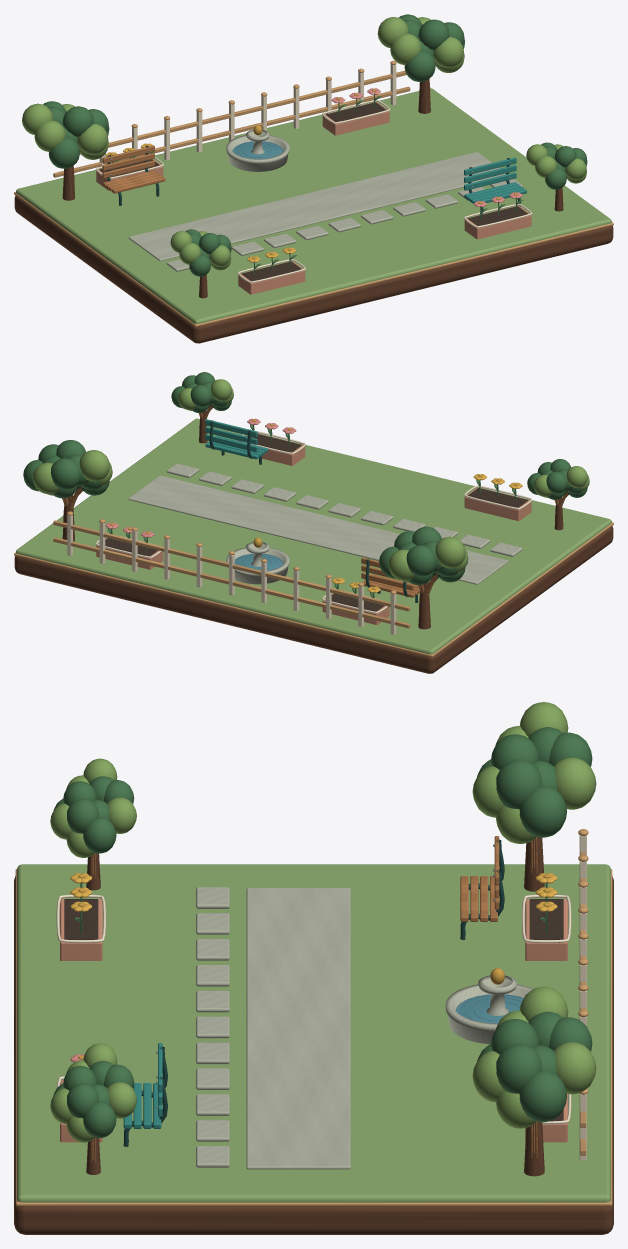
The model's file is garden.glb.
The picture shows the model from 3 angles, top to bottom: view 1: azimuth 30°, elevation 25°; view 2: azimuth 150°, elevation 25°; view 3: azimuth 270°, elevation 25°; orthographic projection. The views are drawn at different scales.
Visible parts, largest first — view 1: Crafted_grass, Crafted_stone, Crafted_edge, Crafted_lightleaf, Crafted_leaf, Crafted_wood_light, Crafted_cream, Crafted_ceramic, Crafted_wood, Crafted_soil, Crafted_teal, Crafted_water; view 2: Crafted_grass, Crafted_stone, Crafted_edge, Crafted_leaf, Crafted_wood_light, Crafted_lightleaf, Crafted_cream, Crafted_ceramic, Crafted_soil, Crafted_wood, Crafted_teal, Crafted_water (+1 smaller); view 3: Crafted_grass, Crafted_stone, Crafted_edge, Crafted_leaf, Crafted_lightleaf, Crafted_wood_light, Crafted_ceramic, Crafted_cream, Crafted_soil, Crafted_wood, Crafted_teal, Crafted_dark (+2 smaller).
Boxes of the visible parts, left/top/right/bottom form: Crafted_grass: left=16, top=88, right=611, bottom=323; Crafted_stone: left=128, top=129, right=522, bottom=271; Crafted_edge: left=14, top=79, right=613, bottom=343; Crafted_lightleaf: left=22, top=17, right=586, bottom=270; Crafted_leaf: left=43, top=14, right=587, bottom=276; Crafted_wood_light: left=14, top=60, right=613, bottom=327; Crafted_cream: left=95, top=64, right=532, bottom=283; Crafted_ceramic: left=96, top=102, right=531, bottom=294; Crafted_wood: left=73, top=62, right=566, bottom=284; Crafted_soil: left=100, top=102, right=527, bottom=281; Crafted_teal: left=464, top=157, right=526, bottom=203; Crafted_water: left=232, top=141, right=283, bottom=158; Crafted_grass: left=16, top=418, right=611, bottom=654; Crafted_stone: left=128, top=463, right=522, bottom=584; Crafted_edge: left=14, top=411, right=613, bottom=673; Crafted_leaf: left=23, top=372, right=587, bottom=605; Crafted_wood_light: left=14, top=511, right=613, bottom=657; Crafted_lightleaf: left=32, top=379, right=589, bottom=595; Crafted_cream: left=67, top=430, right=532, bottom=634; Crafted_ceramic: left=96, top=434, right=531, bottom=624; Crafted_soil: left=105, top=434, right=528, bottom=611; Crafted_wood: left=62, top=405, right=568, bottom=610; Crafted_teal: left=205, top=419, right=268, bottom=459; Crafted_water: left=234, top=554, right=283, bottom=570; Crafted_grass: left=17, top=864, right=610, bottom=1202; Crafted_stone: left=196, top=887, right=533, bottom=1169; Crafted_edge: left=14, top=837, right=613, bottom=1234; Crafted_leaf: left=53, top=727, right=592, bottom=1138; Crafted_lightleaf: left=50, top=702, right=596, bottom=1142; Crafted_wood_light: left=15, top=829, right=612, bottom=1206; Crafted_ceramic: left=60, top=899, right=567, bottom=1142; Crafted_cream: left=56, top=835, right=586, bottom=1160; Crafted_soil: left=64, top=899, right=563, bottom=1121; Crafted_wood: left=91, top=836, right=537, bottom=1162; Crafted_teal: left=123, top=1043, right=162, bottom=1128; Crafted_dark: left=123, top=839, right=504, bottom=1146.
Size of the model in its own units: 13.58 by 3.62 by 9.8.
Materials: 18 (5 with a texture image).
